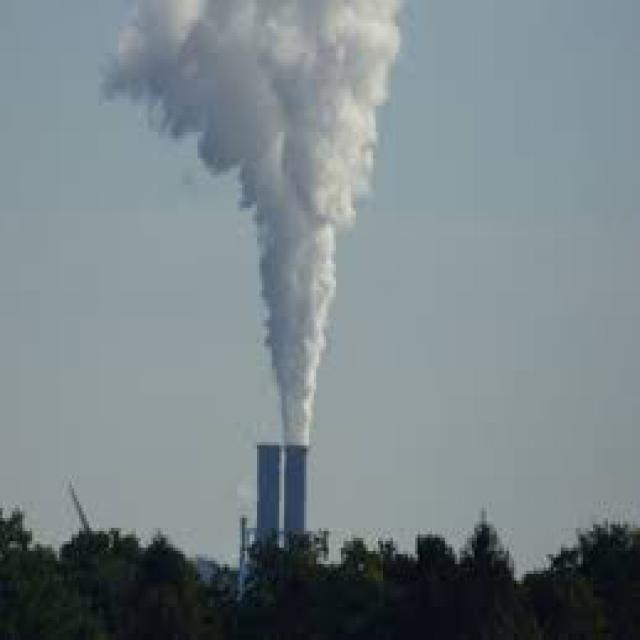Smoke: (83, 0, 447, 456)
